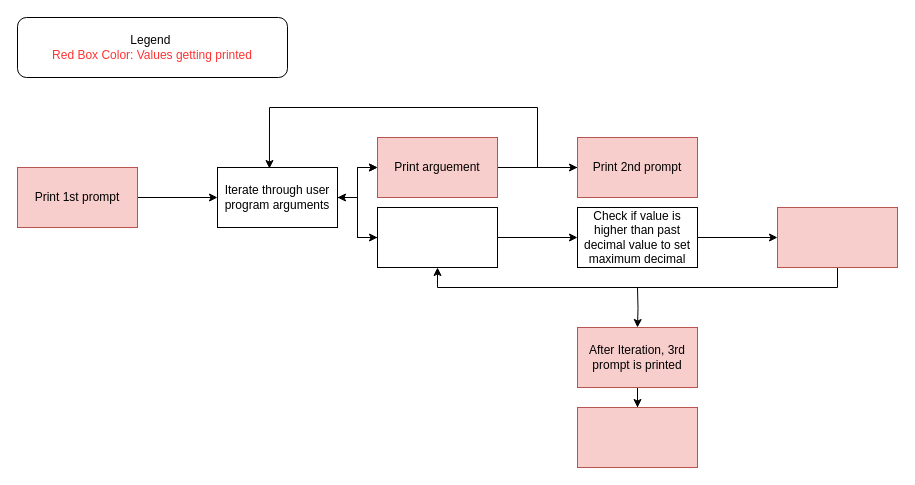
The diagram is 915 pixels wide and 485 high, and some of its shapes have lost their labels. The box of each missing label's shape, as (x1, y1, x2, y2) in pixels:
Maximum decimal value is printed: (576, 406, 698, 468)
Prints decimal value: (776, 206, 898, 268)
Take each argument and convert to decimal value: (376, 206, 498, 268)
